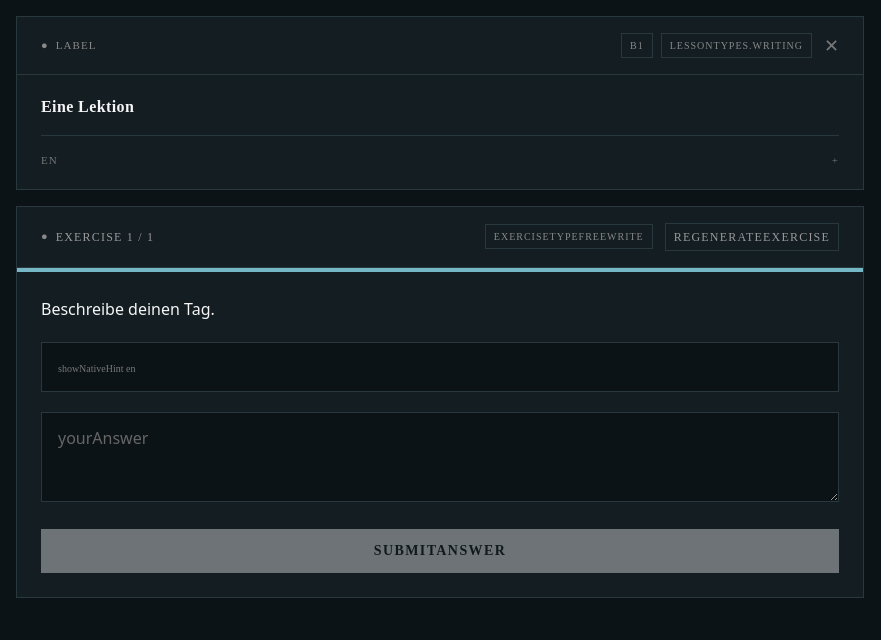
Test: LessonPage lesson loading and answer flow › treats a non-OK answer response with JSON as an evaluated answer
Type "Antwort" into the text box with placeholder "yourAnswer". click: (440,456)
box: [41, 412, 839, 502]
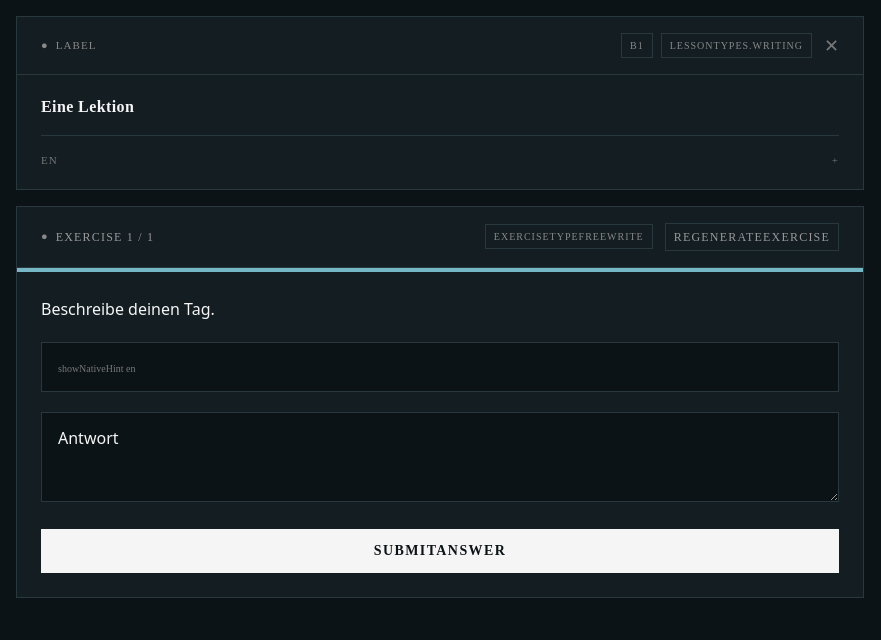
Expected: the button "submitAnswer" is enabled
Click the button "submitAnswer". click: (440,550)
box: [41, 528, 839, 572]
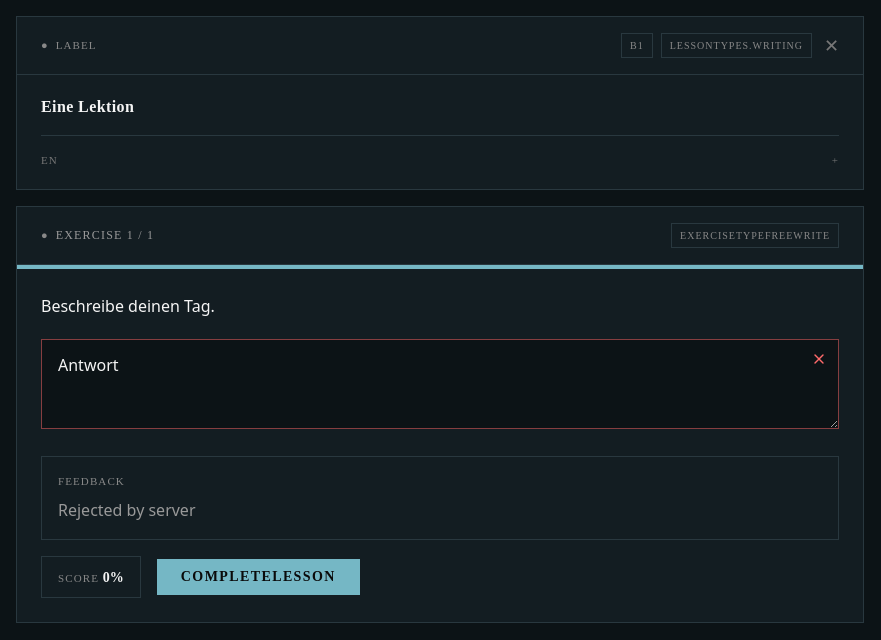
Expected: the text "Rejected by server" is shown, [58, 499, 196, 521]
Expected: the button "submitAnswer" is gone
Expected: the text "0%" is shown, [103, 570, 124, 585]
